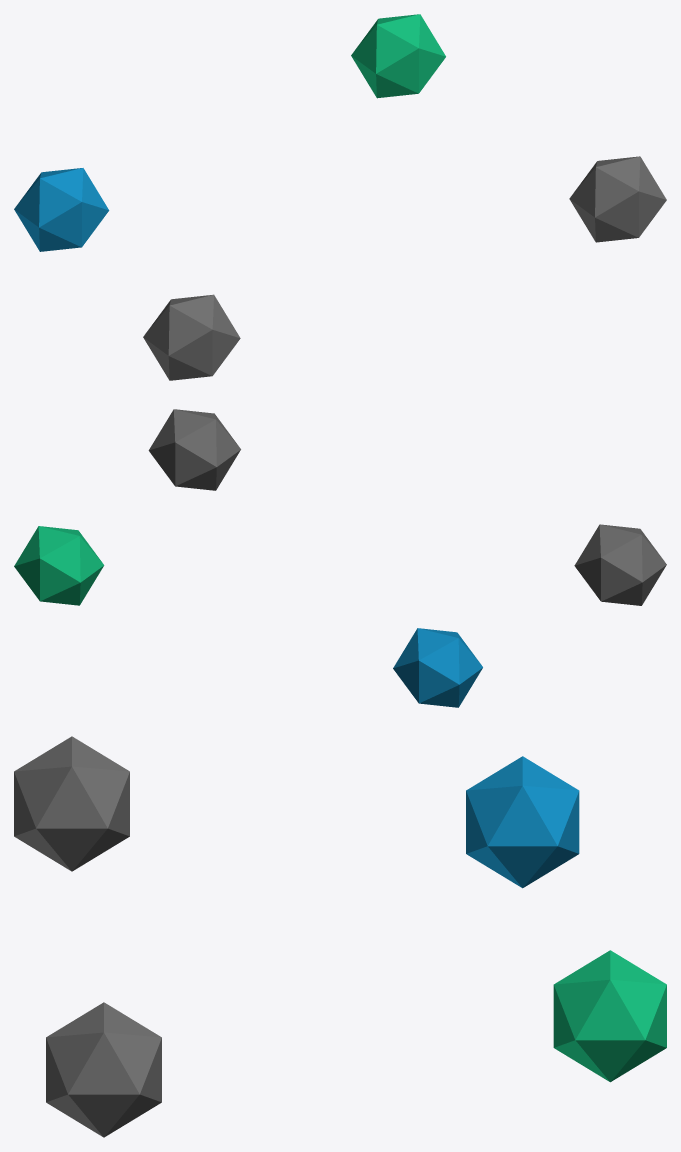
3 renders of one model, top to bottom at view 1: azimuth 30°, elevation 25°; view 2: azimuth 150°, elevation 25°; view 3: azimuth 270°, elevation 25°, orthographic. The views are drawn at different scales.
Visible parts, largest first — view 1: 06_08_00; view 2: 06_08_00; view 3: 06_08_00.
Boxes of the visible parts, <box> form: 06_08_00: <box>14,14,666,380</box>; 06_08_00: <box>14,409,666,707</box>; 06_08_00: <box>14,736,666,1137</box>.
Bounding box in the file's own units: 0.3936 × 0.0866 × 0.3127.
